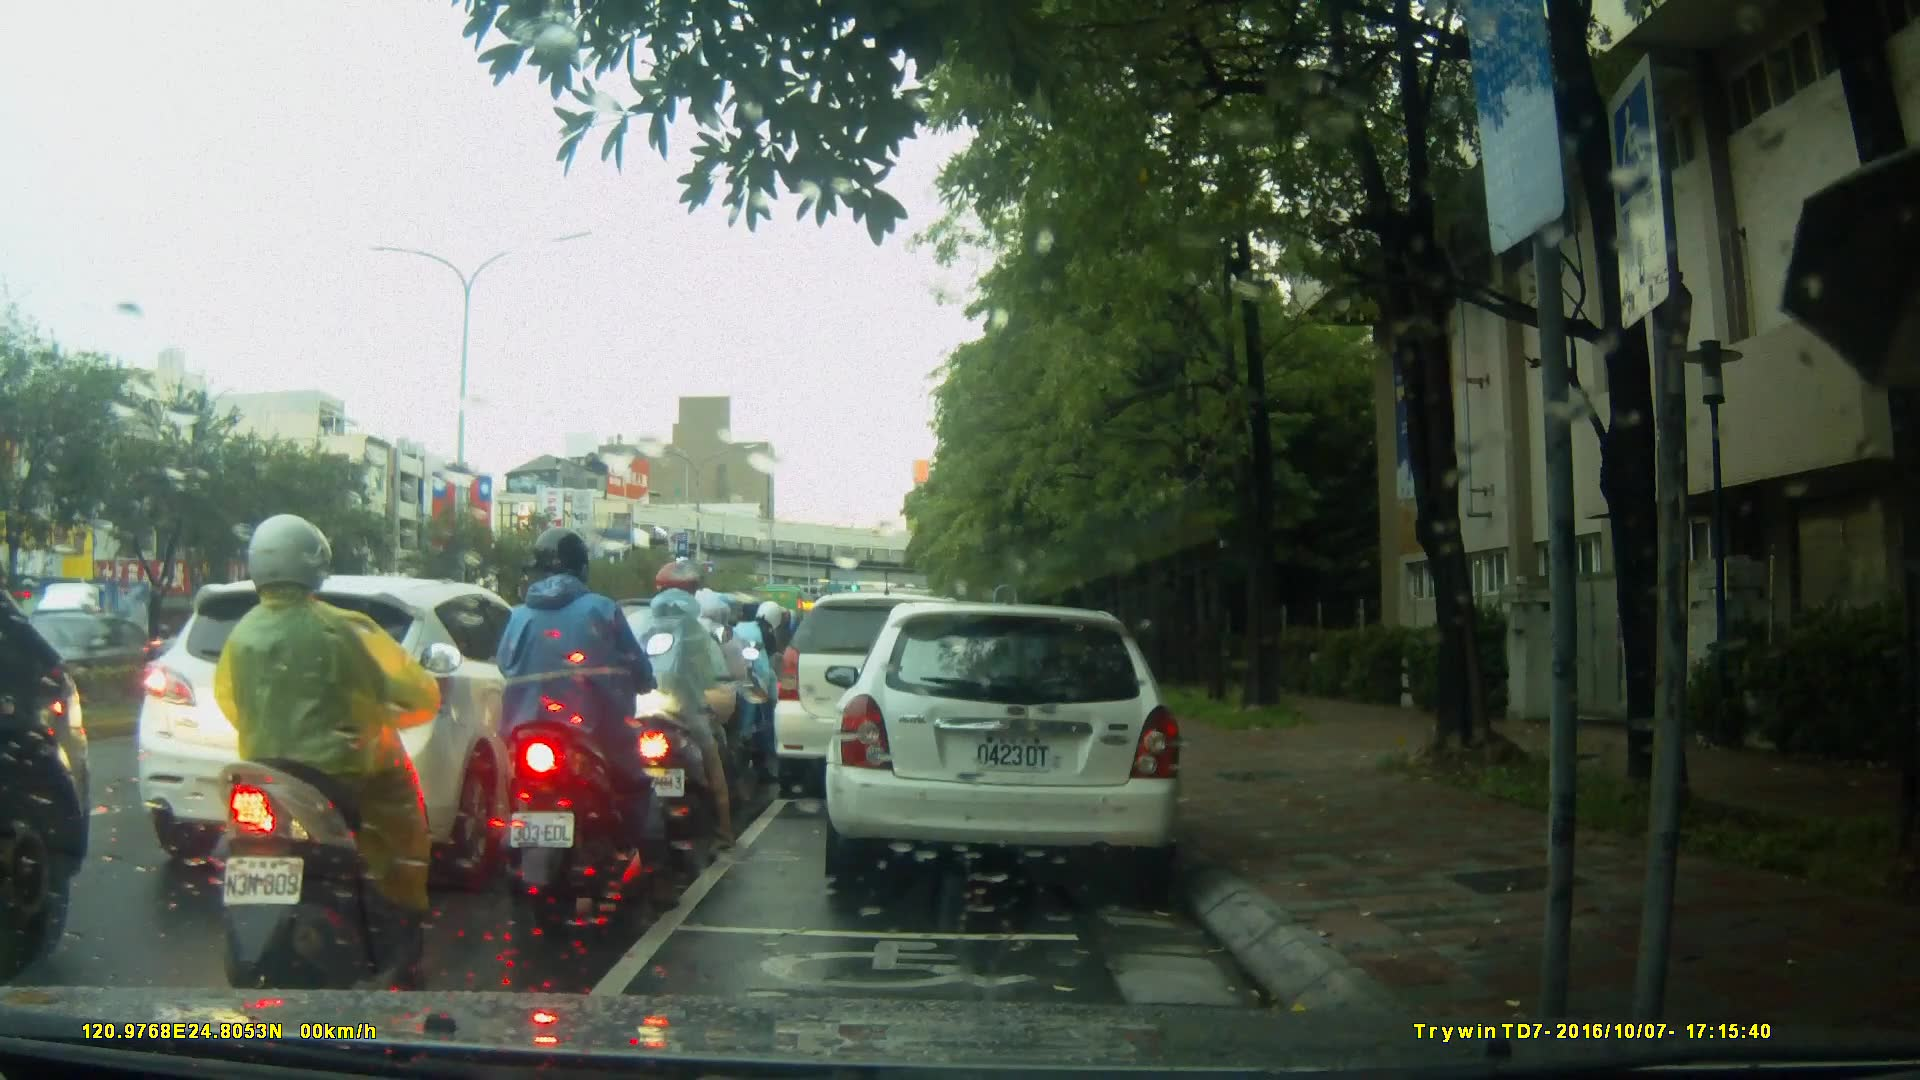rider: (206, 513, 465, 1008), (495, 526, 682, 920), (603, 560, 738, 851), (645, 581, 763, 823), (721, 594, 788, 766)
vehicle: (136, 572, 591, 876), (822, 604, 1188, 883), (774, 595, 995, 802), (20, 576, 199, 697), (1, 610, 197, 715)
